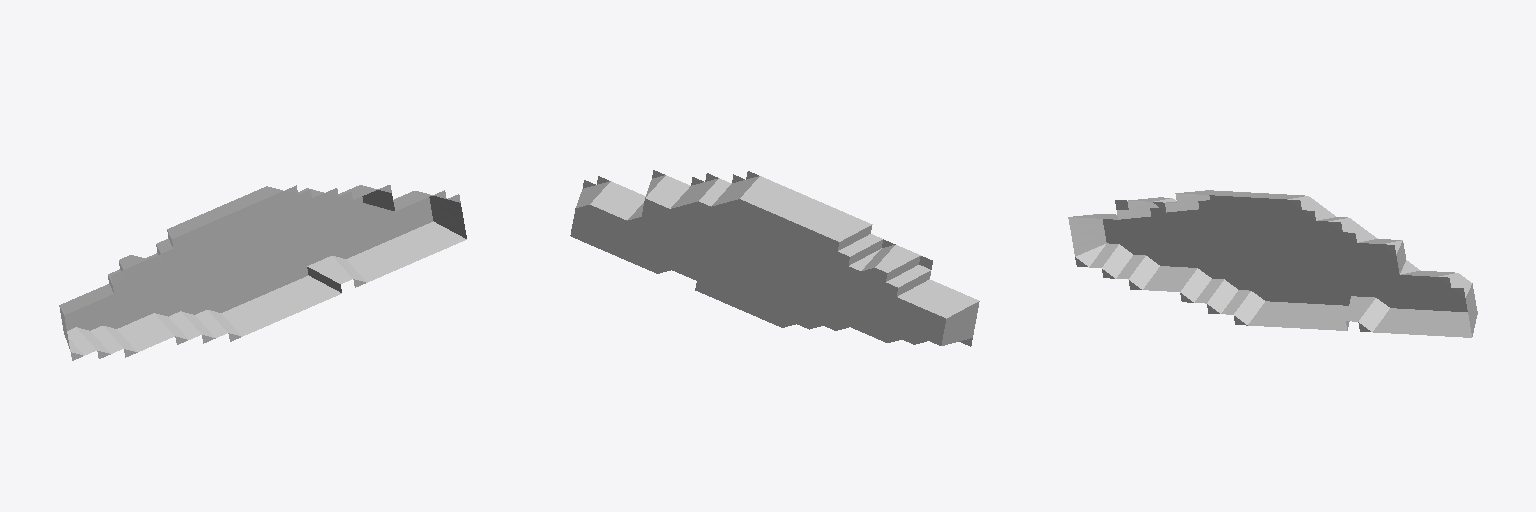
File: navepantalla.obj
3 views of the same model, side by side, from view 1: azimuth 30°, elevation 25°; view 2: azimuth 150°, elevation 25°; view 3: azimuth 330°, elevation 25° (orthographic).
Parts seen in each view (by area): view 1: pCube31; view 2: pCube31; view 3: pCube31.
Part boxes in pixels (x1,y1,x2,y2): pCube31: (59, 185, 466, 360); pCube31: (570, 170, 979, 346); pCube31: (1068, 190, 1477, 337).
Bounding box in the file's own units: 5.92 × 1.98 × 0.5165.